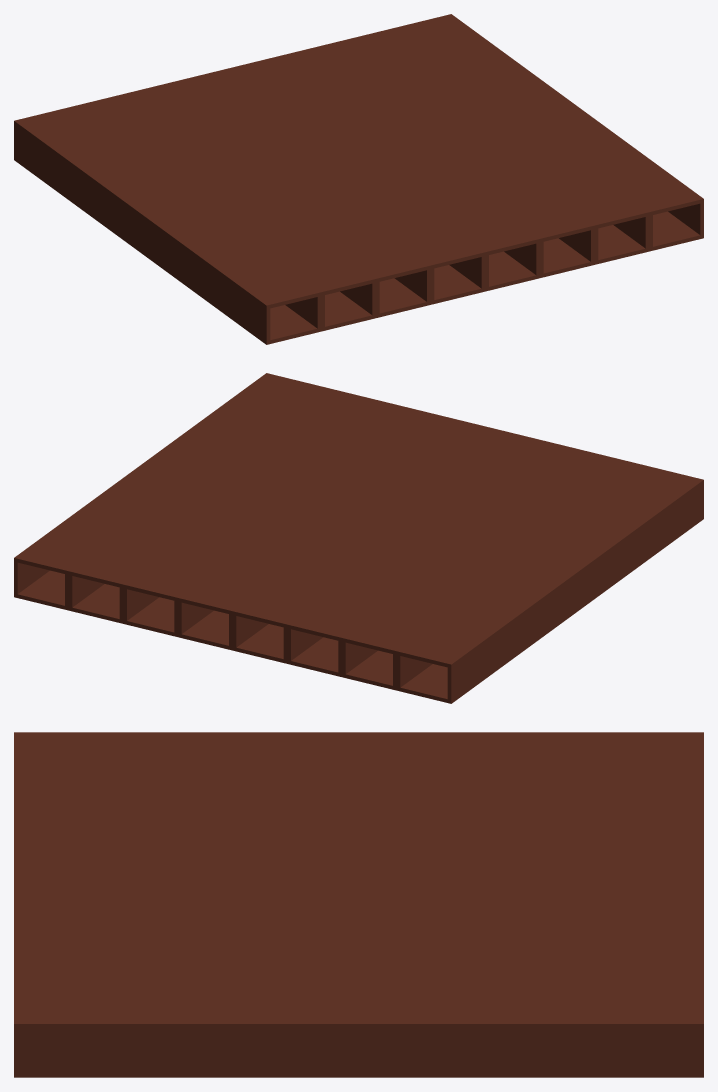
The model's file is SM_pallet_01.glb.
The picture shows the model from 3 angles, top to bottom: view 1: azimuth 30°, elevation 25°; view 2: azimuth 150°, elevation 25°; view 3: azimuth 270°, elevation 25°; orthographic projection. The views are drawn at different scales.
Parts seen in each view (by area): view 1: SM_pallet_01; view 2: SM_pallet_01; view 3: SM_pallet_01.
Boxes of the visible parts, bbox=[...] form: SM_pallet_01: bbox=[14, 14, 703, 344]; SM_pallet_01: bbox=[14, 373, 703, 703]; SM_pallet_01: bbox=[14, 732, 703, 1077].
Bounding box in the file's own units: 2 × 0.172 × 2.
Materials: 1 (1 with a texture image).
